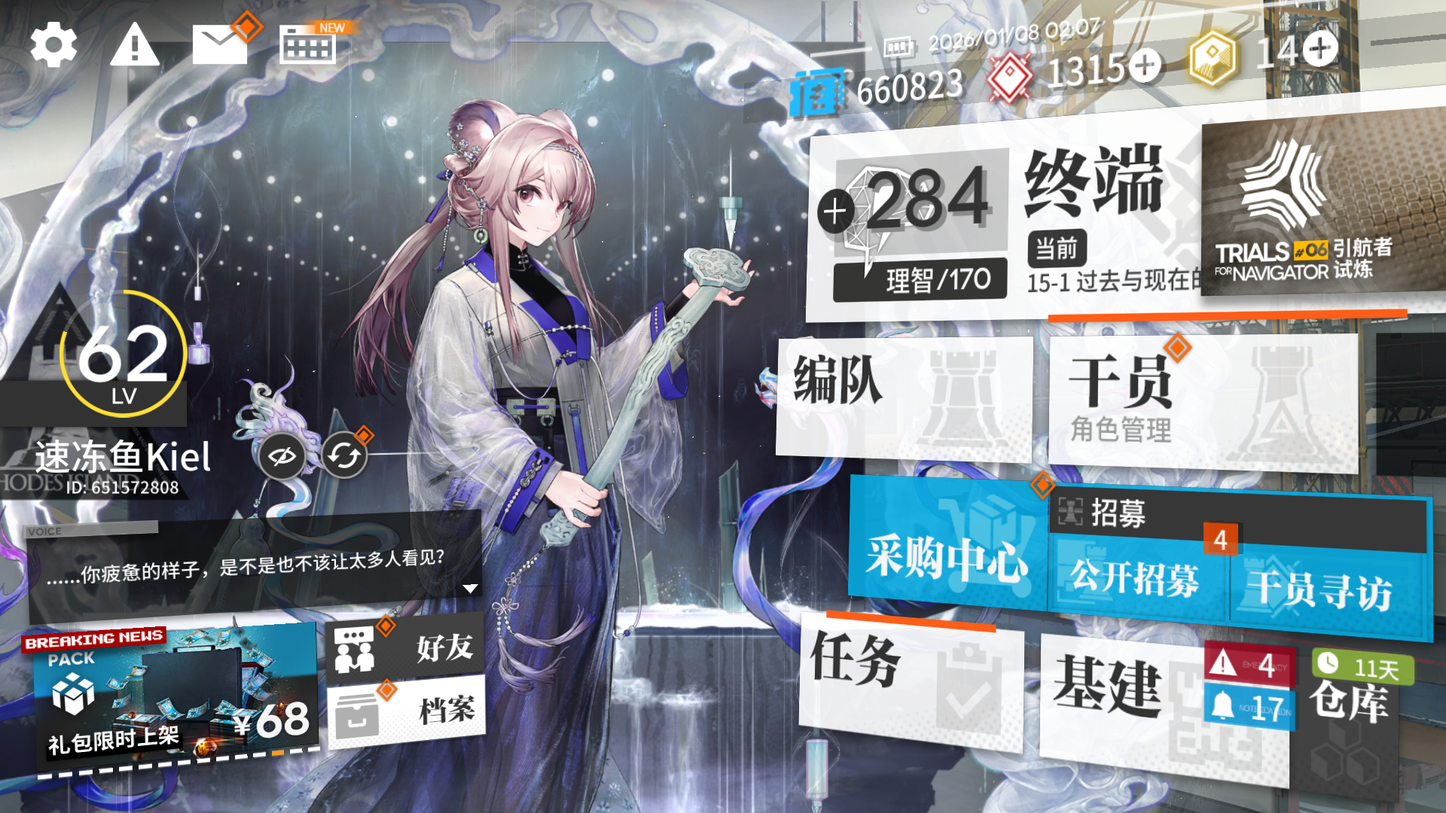home_button: (996, 121, 1173, 244)
infrastructure_button: (1036, 656, 1285, 767)
